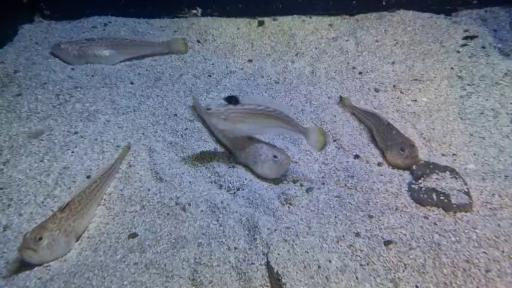Fish: (18, 142, 131, 265), (193, 97, 291, 179), (339, 96, 420, 169), (203, 103, 326, 151), (51, 38, 188, 65), (266, 253, 283, 287)
